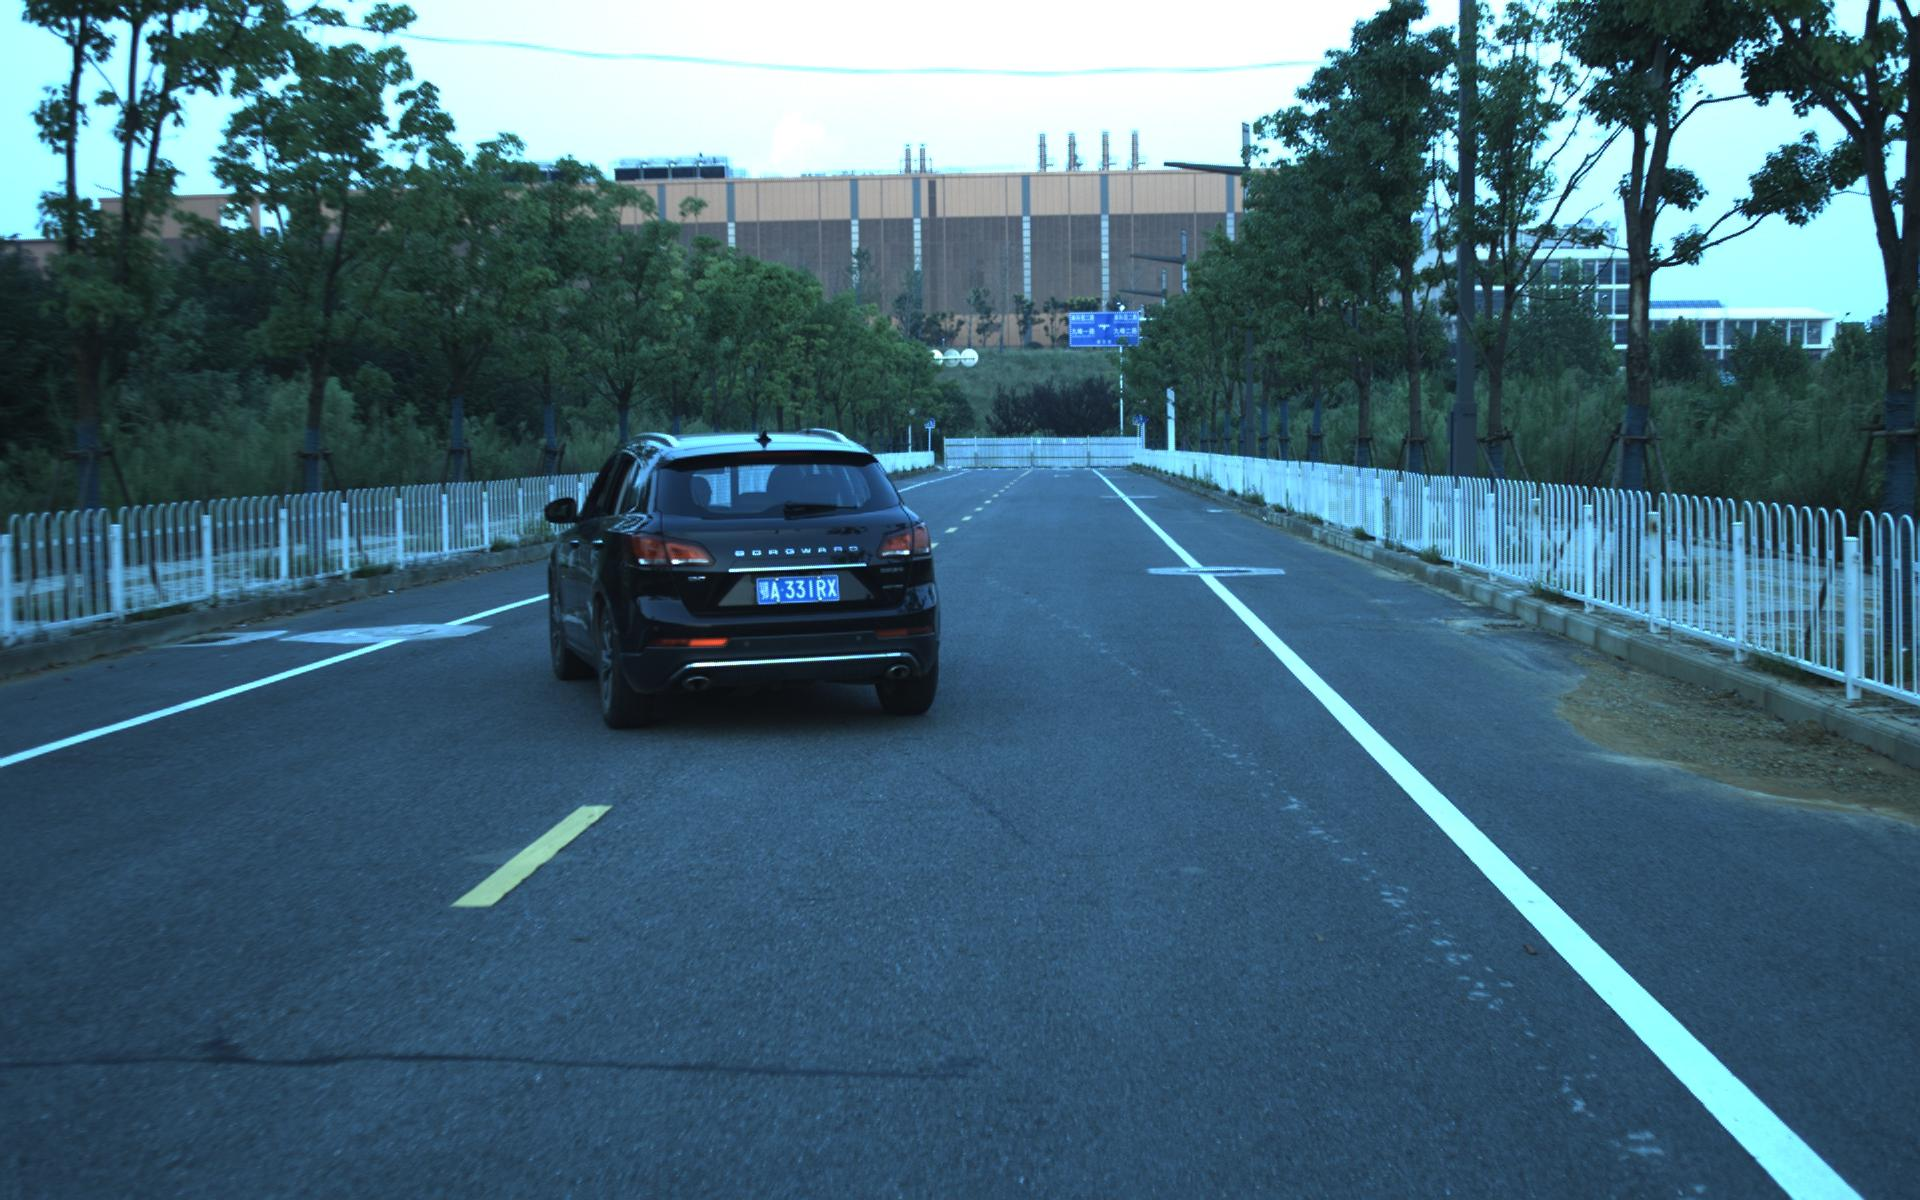Car: (534, 420, 948, 741)
